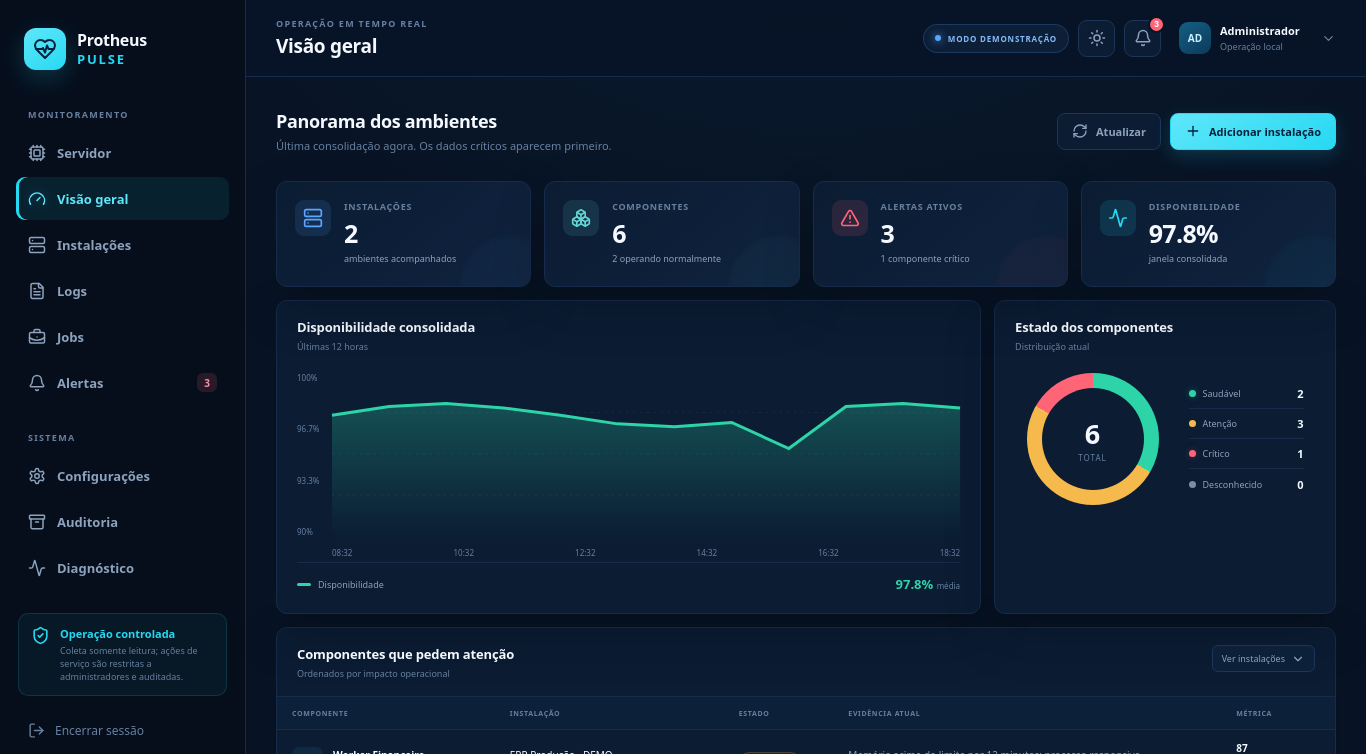
Scenario: App › cadastra um heartbeat e mostra o token uma única vez
This screenshot has width=1366, height=754.
Expected: the heading "Panorama dos ambientes" is shown, [276,109,497,133]
Click the button "Jobs": [122, 336] box [16,315,229,358]
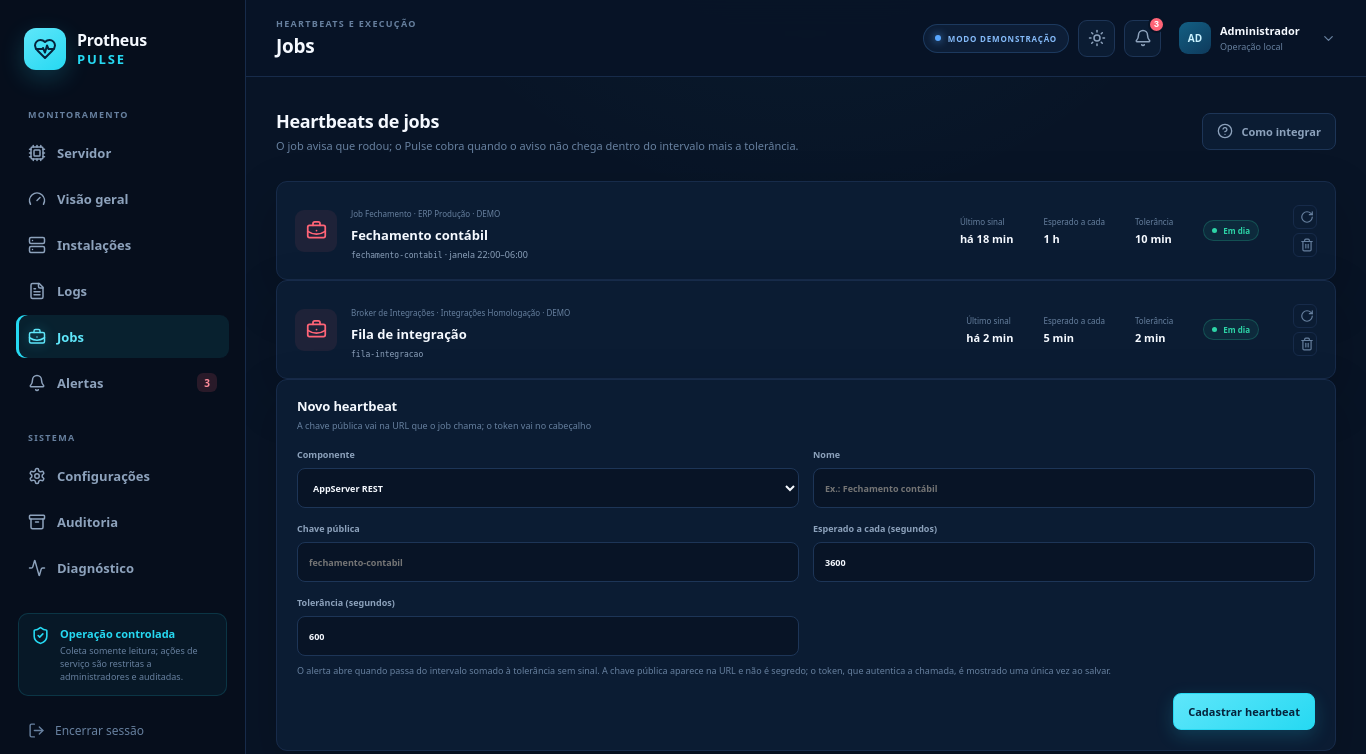
Expected: the heading "Fechamento contábil" is shown, [351,226,488,244]
Select "Job Fechamento" in the dropdown named "Componente do heartbeat": [548, 488] box [297,468,799,508]
In the field named "Nome do heartbeat": [1064, 488] box [813,468,1315,508], type "Carga noturna"
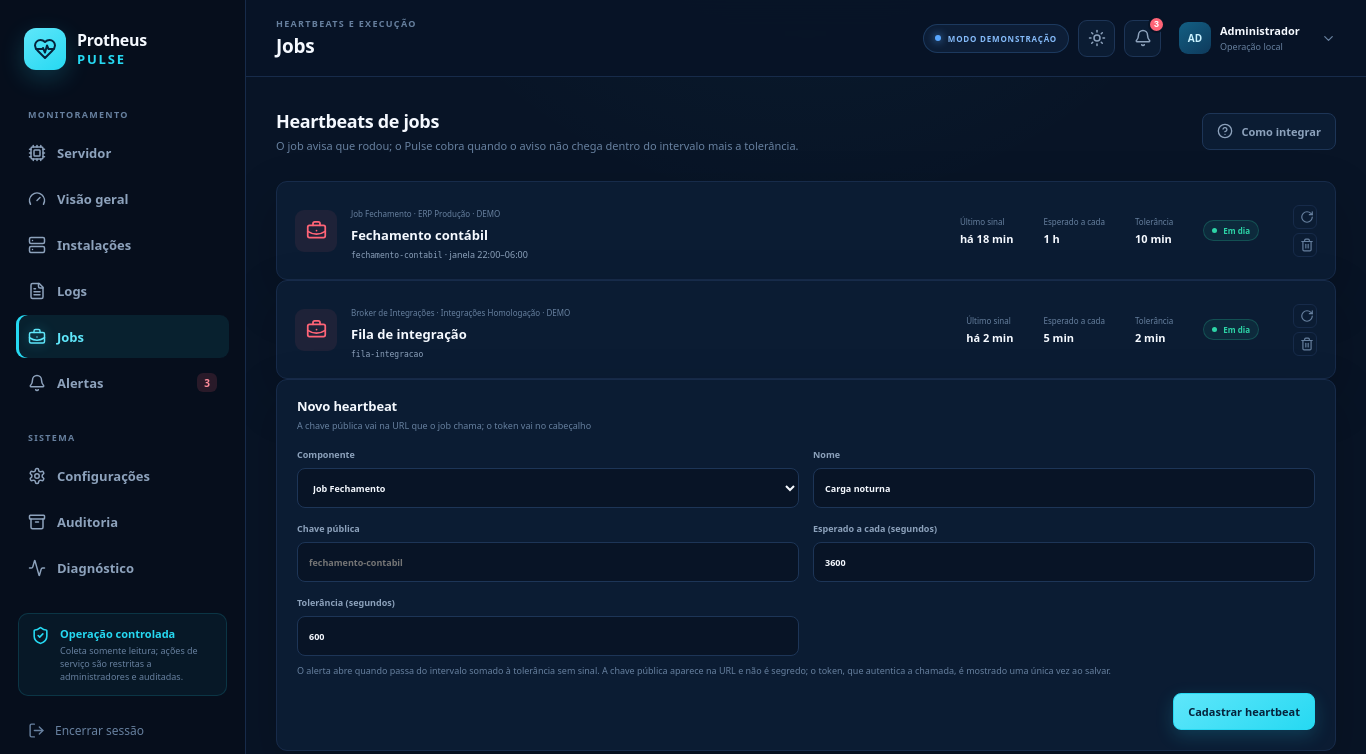
In the field named "Chave pública do job": [548, 562] box [297,542,799,582], type "carga-noturna"
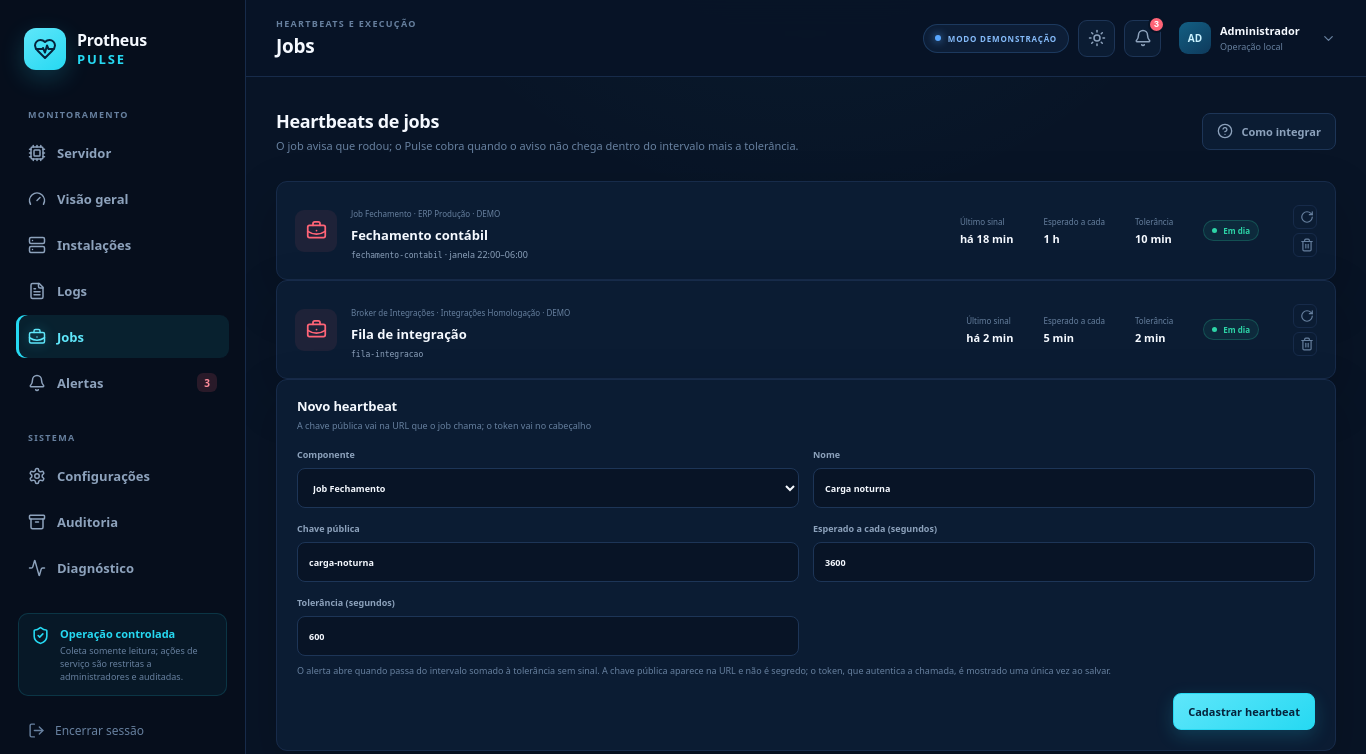
Replace the text in the number field named "Intervalo esperado" with "7200": [1064, 562] box [813,542,1315,582]
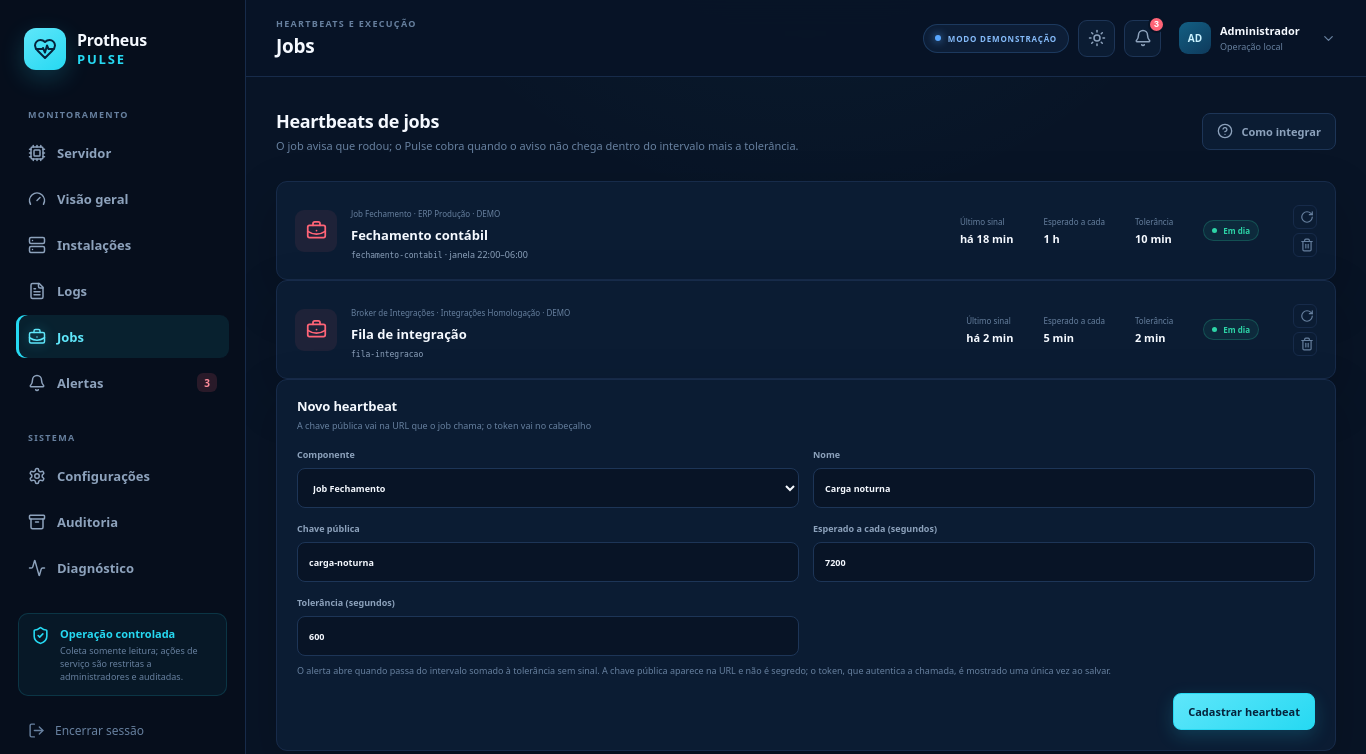
Replace the text in the number field labelled "Tolerância" with "900": [548, 636] box [297,616,799,656]
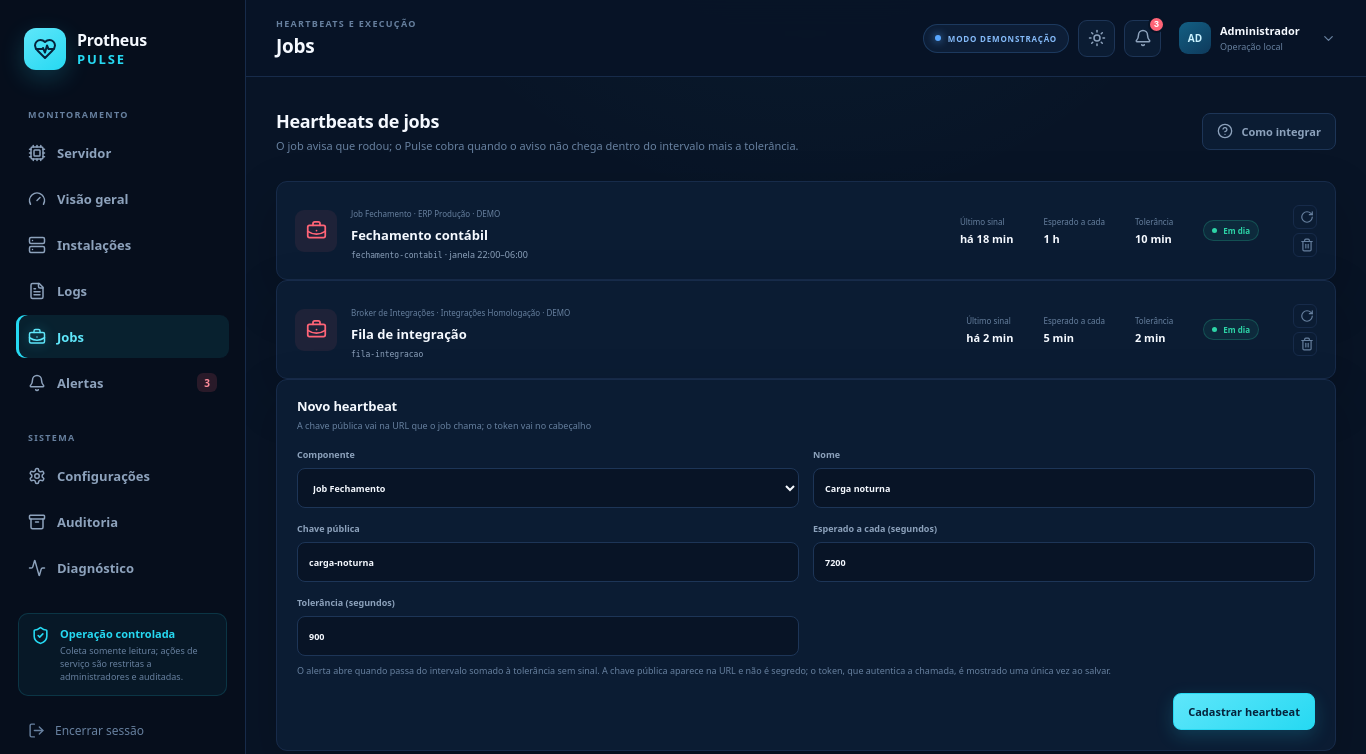
Click the button "Cadastrar heartbeat": [1244, 711] box [1173,692,1315,730]
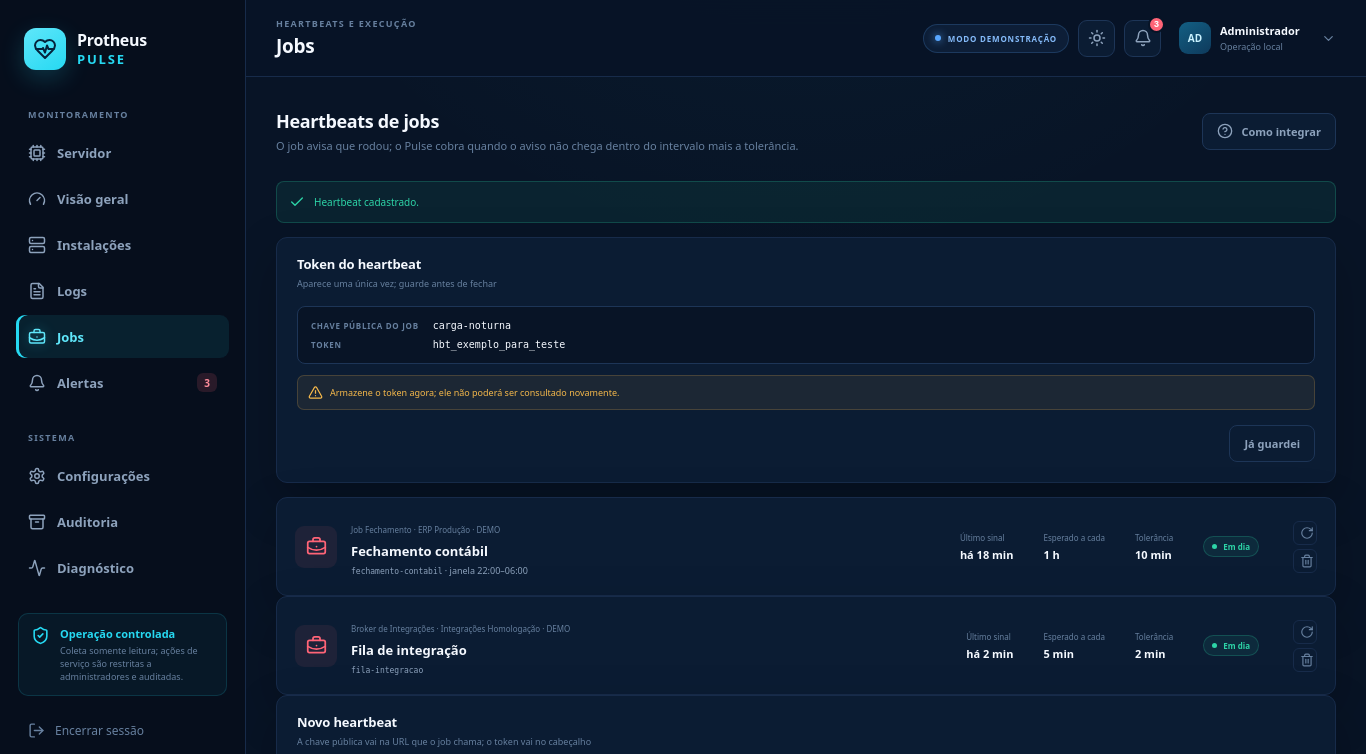
Expected: the text "hbt_exemplo_para_teste" is shown, [433,339,565,350]
Expected: the text "não poderá ser consultado novamente" is shown, [330,386,619,399]
